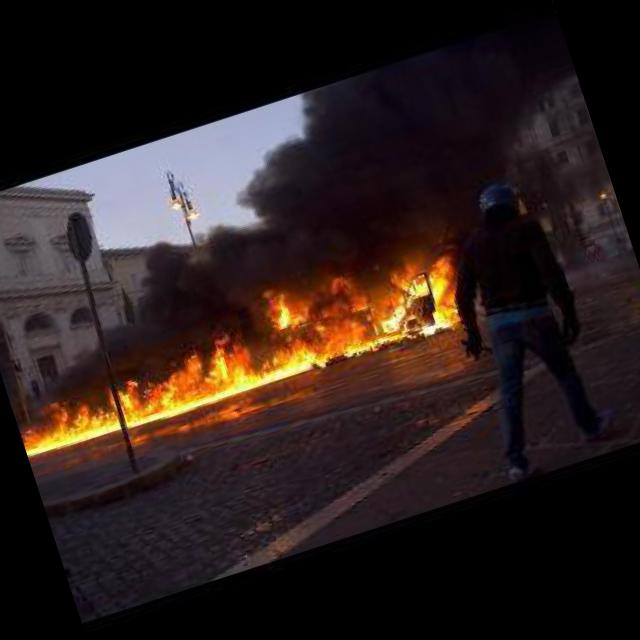fire: (0, 216, 484, 458)
smoke: (0, 47, 509, 399)
